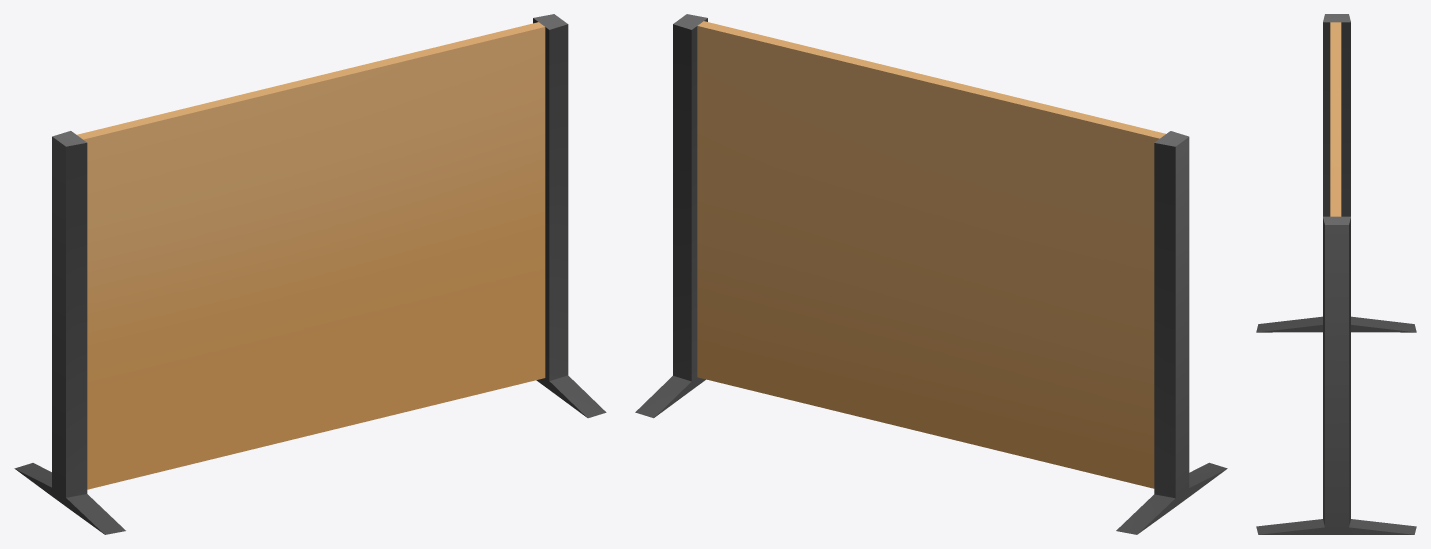
File: SM_Wall.FBX
The picture shows the model from 3 angles, left to right: view 1: azimuth 30°, elevation 25°; view 2: azimuth 150°, elevation 25°; view 3: azimuth 270°, elevation 25°; orthographic projection. The views are drawn at different scales.
Parts seen in each view (by area): view 1: cloison; view 2: cloison; view 3: cloison.
Part boxes in pixels (bbox=[...]): cloison: bbox=[14, 14, 606, 534]; cloison: bbox=[635, 14, 1227, 534]; cloison: bbox=[1256, 14, 1416, 534].
Bounding box in the file's own units: 204 × 140 × 65.71.
